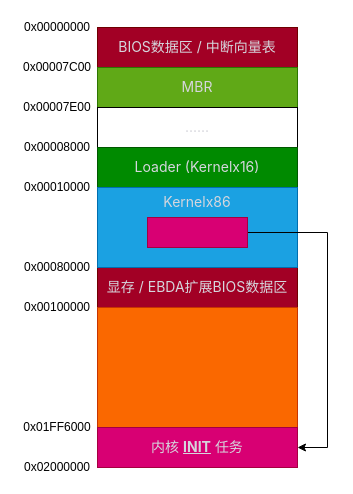
Some shapes in this 353 by 494 pixel diagram are drawn without their labels. Here are the shapes that lost their labels. From the top down, the box of each, then its label:
(146, 216, 248, 248): INIT 任务
(96, 306, 298, 428): 可用内存区域
